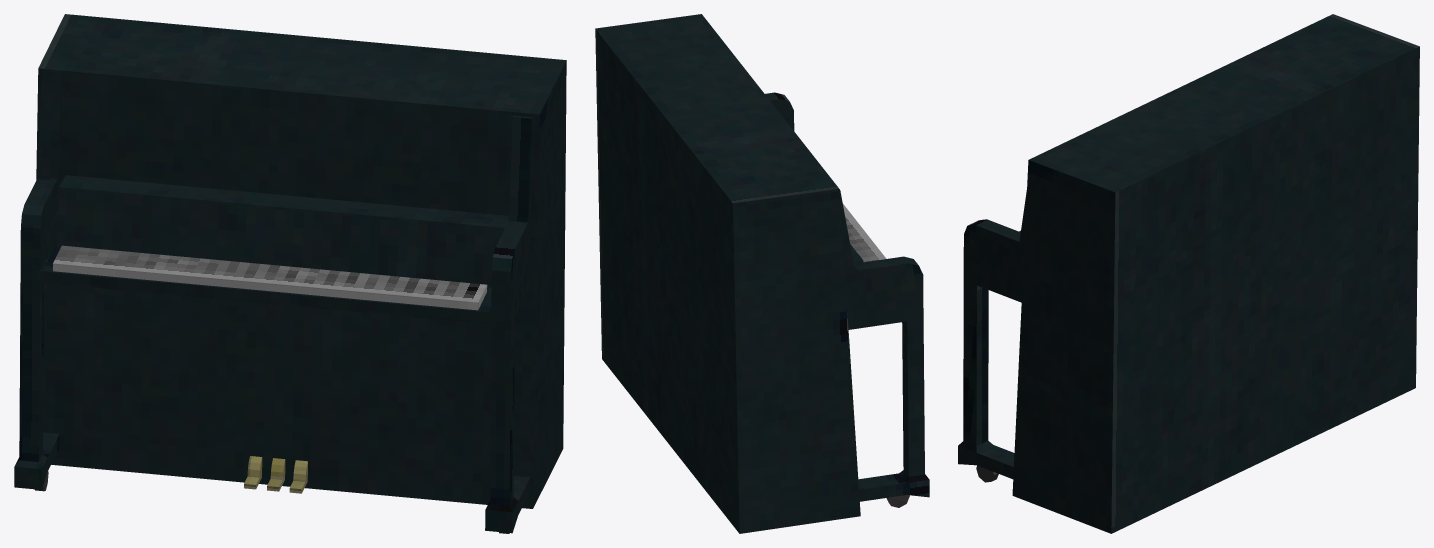
Rendered from SM_Piano.glb.
3 renders of one model, left to right at view 1: azimuth 30°, elevation 25°; view 2: azimuth 150°, elevation 25°; view 3: azimuth 270°, elevation 25°, orthographic. The views are drawn at different scales.
Parts seen in each view (by area): view 1: SM_Piano; view 2: SM_Piano; view 3: SM_Piano.
Part boxes in pixels (bbox=[...]): SM_Piano: bbox=[14, 14, 566, 533]; SM_Piano: bbox=[595, 14, 929, 533]; SM_Piano: bbox=[958, 14, 1419, 533].
Size of the model in its own units: 1.99 by 1.57 by 1.89.
1 material, 1 textured.
